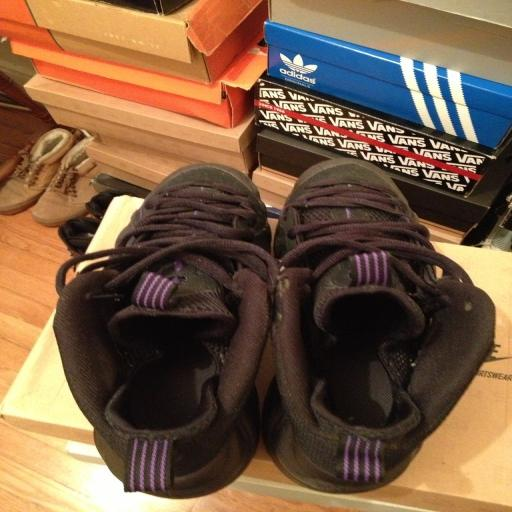shoe: (262, 159, 494, 493), (53, 164, 277, 498), (0, 128, 76, 214), (31, 137, 98, 227)
